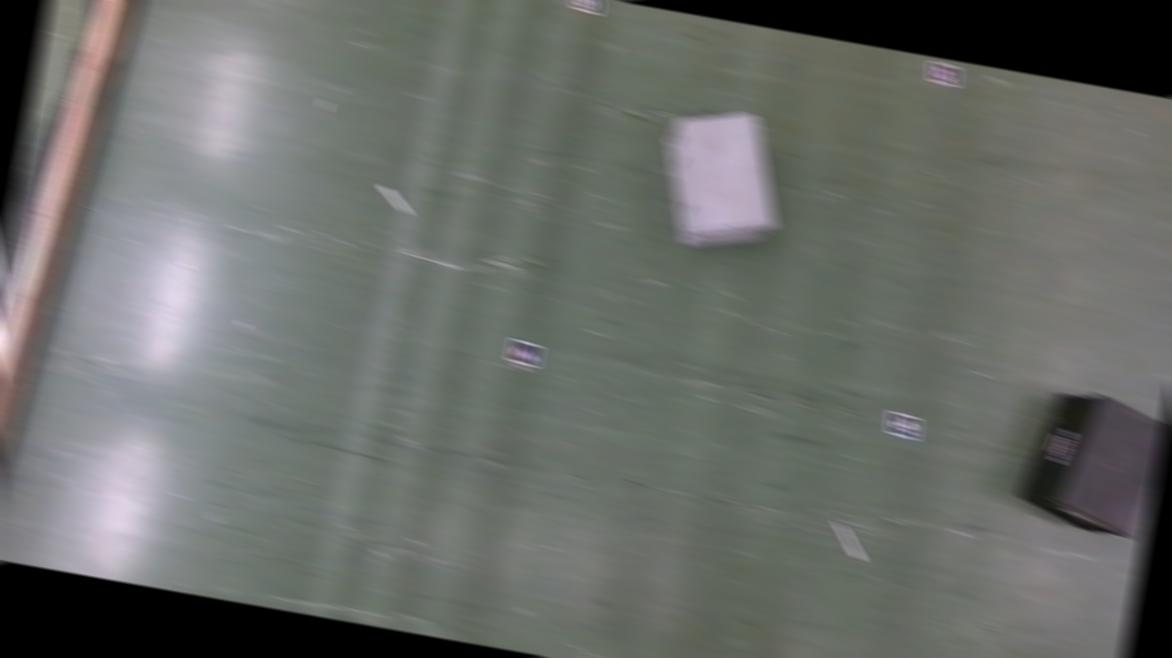probes: (830, 520, 871, 560), (377, 183, 416, 215)
rako: (646, 96, 798, 264), (1013, 382, 1170, 542)
